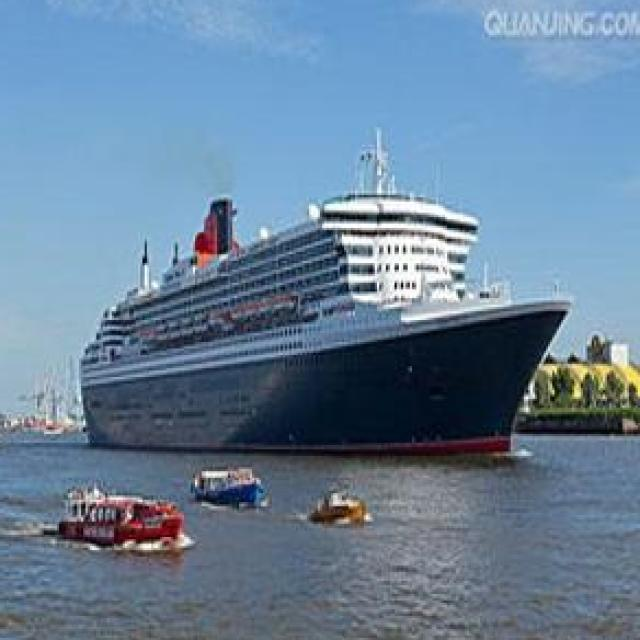houseboat: (50, 477, 177, 554), (189, 457, 263, 505), (310, 485, 364, 524)
passenger ship: (73, 167, 564, 462)
